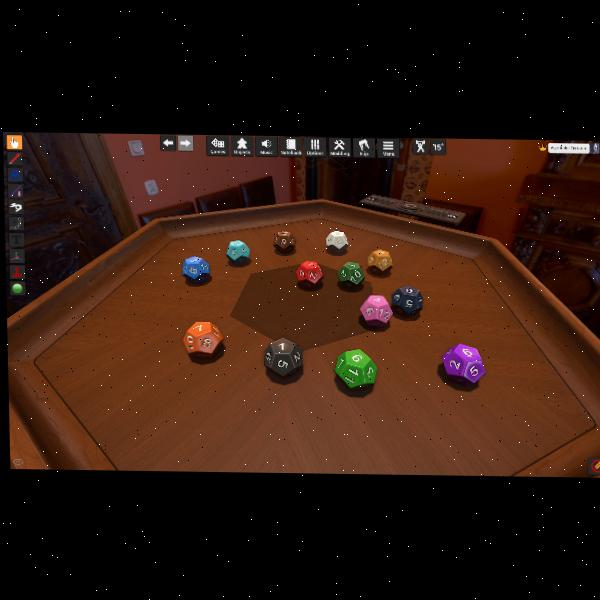d12: (441, 342, 485, 385), (333, 346, 373, 386), (264, 337, 304, 377), (184, 321, 225, 357), (359, 294, 392, 327), (391, 285, 422, 315), (183, 255, 211, 283), (367, 248, 392, 275), (297, 260, 321, 287), (225, 239, 250, 264), (336, 261, 360, 285), (274, 231, 295, 253), (326, 230, 346, 250)
